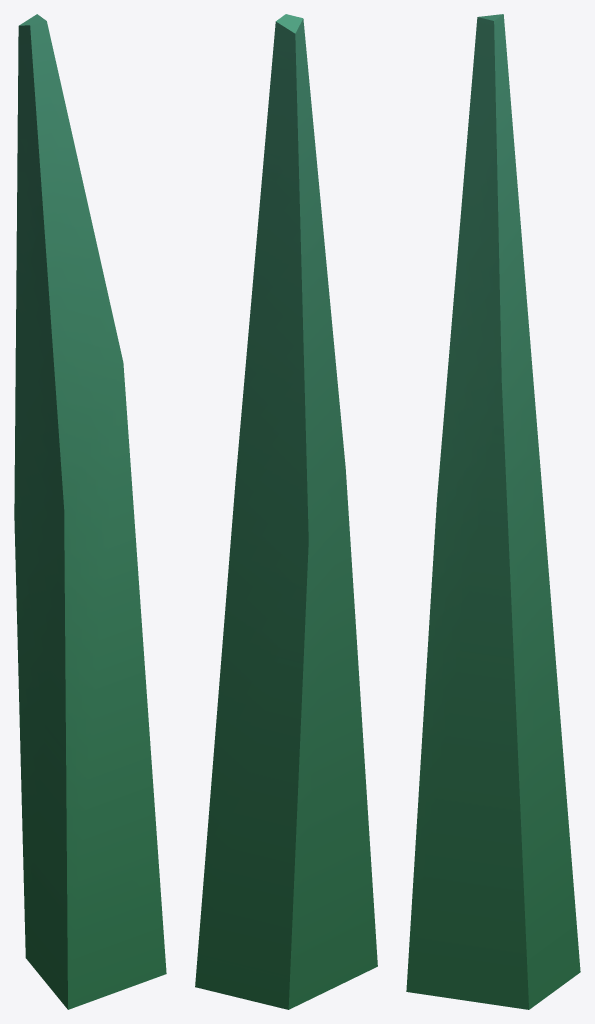
File: Reed002.glb
3 renders of one model, left to right at view 1: azimuth 30°, elevation 25°; view 2: azimuth 150°, elevation 25°; view 3: azimuth 330°, elevation 25°, orthographic. The views are drawn at different scales.
Parts seen in each view (by area): view 1: Reed002; view 2: Reed002; view 3: Reed002.
Boxes of the visible parts, x1,y1,x2,y2 form: Reed002: (14,14,166,1009); Reed002: (195,14,377,1009); Reed002: (406,14,580,1009).
Bounding box in the file's own units: 58.74 × 477 × 58.97.
1 material, 1 textured.
